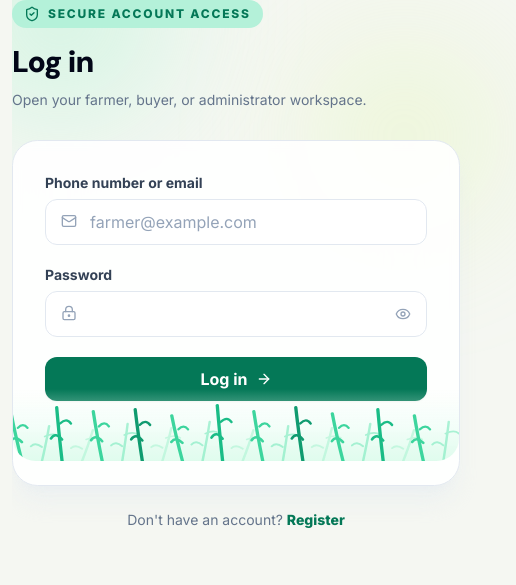
LoginForm › shows error on empty
Click the button "Log in": {"x": 236, "y": 379} [45,357,427,401]
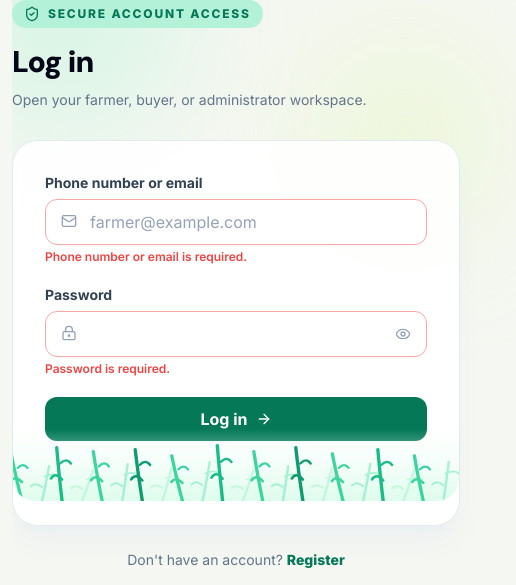
Expected: the text "Phone number or email is required." is shown, [45,249,247,264]
Expected: the text "Password is required." is shown, [45,361,170,376]
